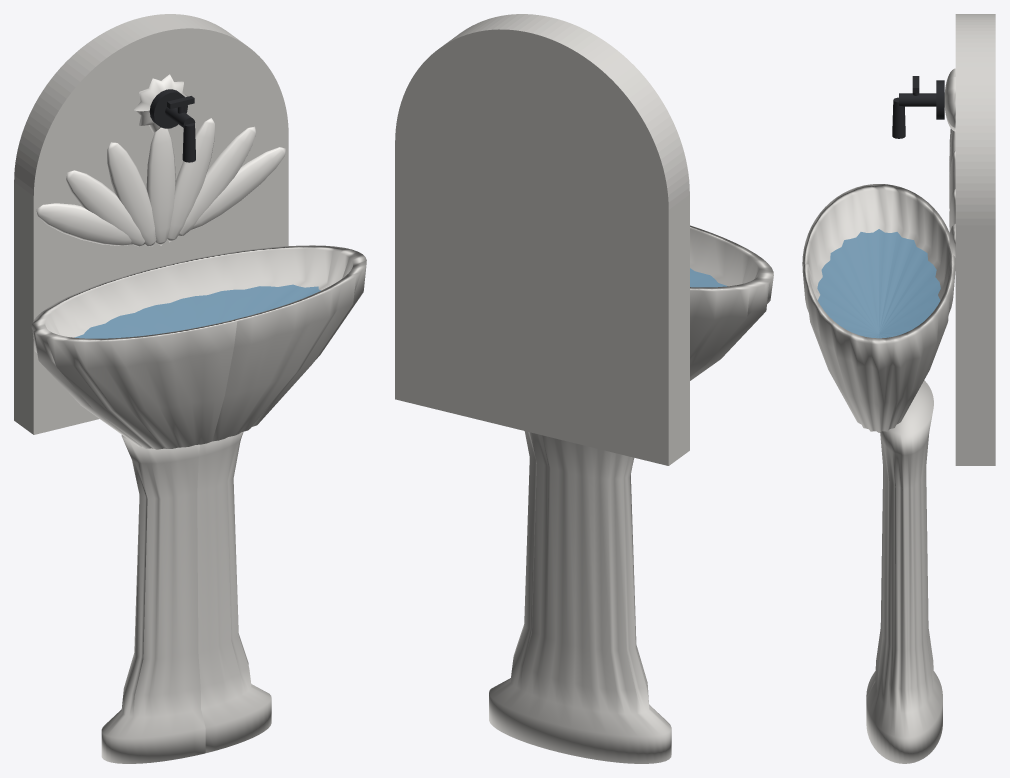
3 renders of one model, left to right at view 1: azimuth 30°, elevation 25°; view 2: azimuth 150°, elevation 25°; view 3: azimuth 270°, elevation 25°, orthographic. The views are drawn at different scales.
Visible parts, largest first — view 1: panel-arche, basin-vasque, col-pied, eau, leaf-panel-3, leaf-panel-4, leaf-panel-2, leaf-panel-6, leaf-panel-1, leaf-panel-5, leaf-panel-0, panel-rosace (+1 smaller); view 2: panel-arche, col-pied, basin-vasque; view 3: col-pied, basin-vasque, panel-arche, eau, panel-rosace, robinet-corps, robinet-bec, robinet-rosace.
Part boxes in pixels (x1=…): panel-arche: x1=14, y1=14, x2=288, y2=434; basin-vasque: x1=31, y1=245, x2=366, y2=449; col-pied: x1=101, y1=431, x2=271, y2=763; eau: x1=75, y1=284, x2=320, y2=338; leaf-panel-3: x1=146, y1=127, x2=175, y2=245; leaf-panel-4: x1=107, y1=142, x2=156, y2=246; leaf-panel-2: x1=167, y1=118, x2=214, y2=242; leaf-panel-6: x1=36, y1=203, x2=132, y2=245; leaf-panel-1: x1=178, y1=126, x2=256, y2=236; leaf-panel-5: x1=66, y1=170, x2=144, y2=246; leaf-panel-0: x1=191, y1=147, x2=285, y2=229; panel-rosace: x1=134, y1=74, x2=187, y2=132; panel-arche: x1=395, y1=14, x2=689, y2=465; col-pied: x1=489, y1=431, x2=671, y2=763; basin-vasque: x1=690, y1=225, x2=773, y2=380; col-pied: x1=866, y1=380, x2=942, y2=763; basin-vasque: x1=802, y1=184, x2=955, y2=432; panel-arche: x1=955, y1=14, x2=995, y2=465; eau: x1=817, y1=229, x2=940, y2=338; panel-rosace: x1=944, y1=68, x2=955, y2=131; robinet-corps: x1=899, y1=93, x2=936, y2=106; robinet-bec: x1=892, y1=97, x2=905, y2=138; robinet-rosace: x1=936, y1=80, x2=944, y2=119.
Bounding box in the file's own units: 0.67 × 1.35 × 0.34.
